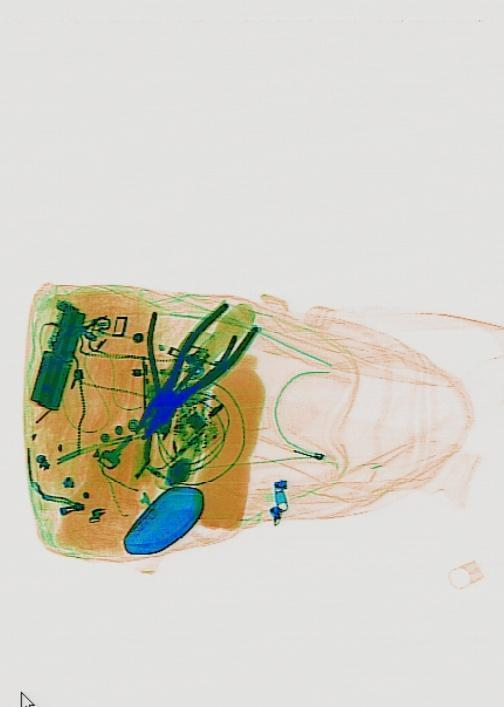Pliers: (122, 286, 259, 462), (110, 282, 238, 454)
